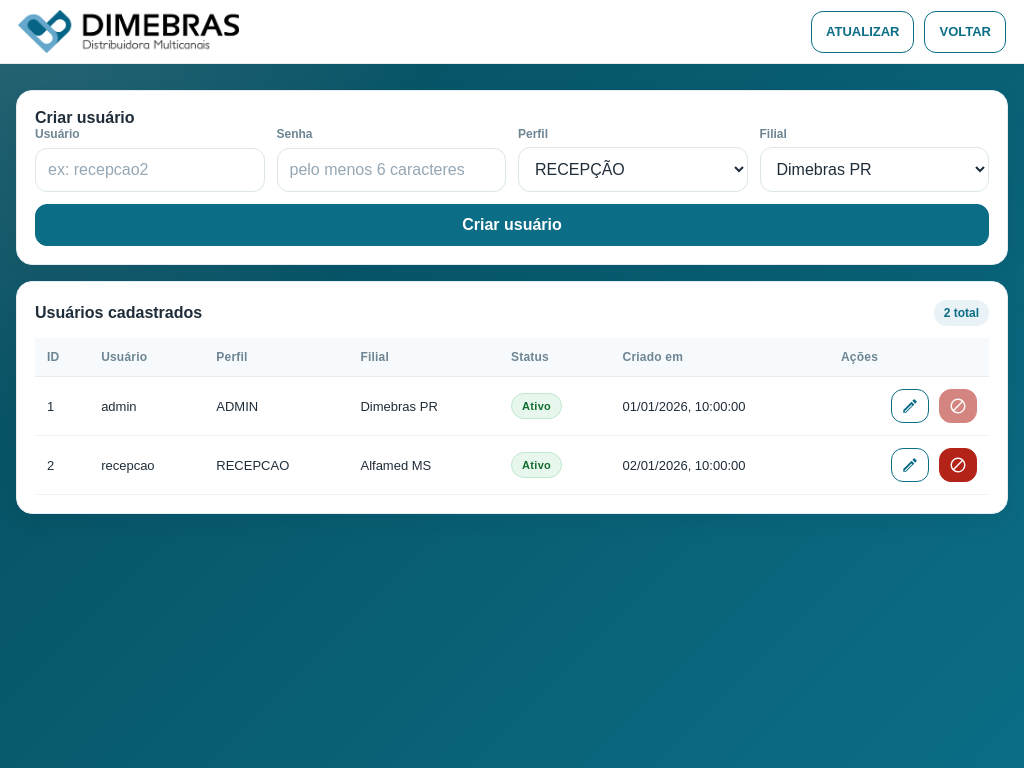
Test: AdminUsers › validates short create values and keeps field order
The width and height of the screenshot is (1024, 768).
expect the text "recepcao" is shown: met, box [89,436,204,494]
In the field labelled "Usuário": (150, 170) [35,148,264,192], type "ab"
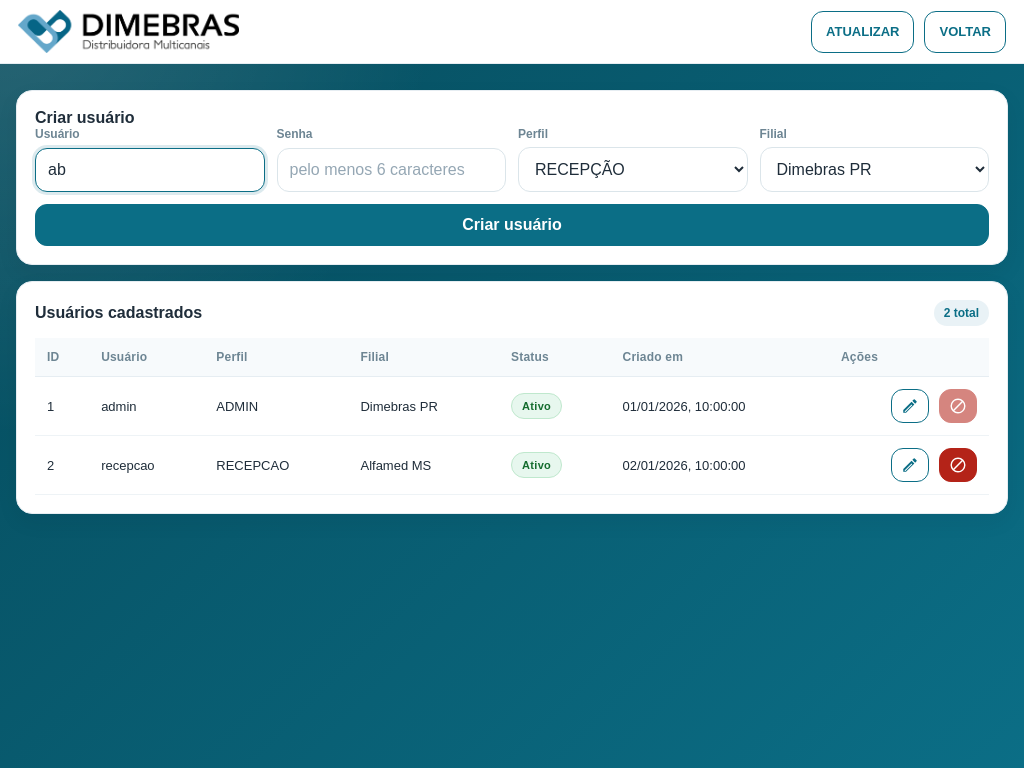
In the password field labelled "Senha": (391, 170) [276,148,506,192], type "12345"
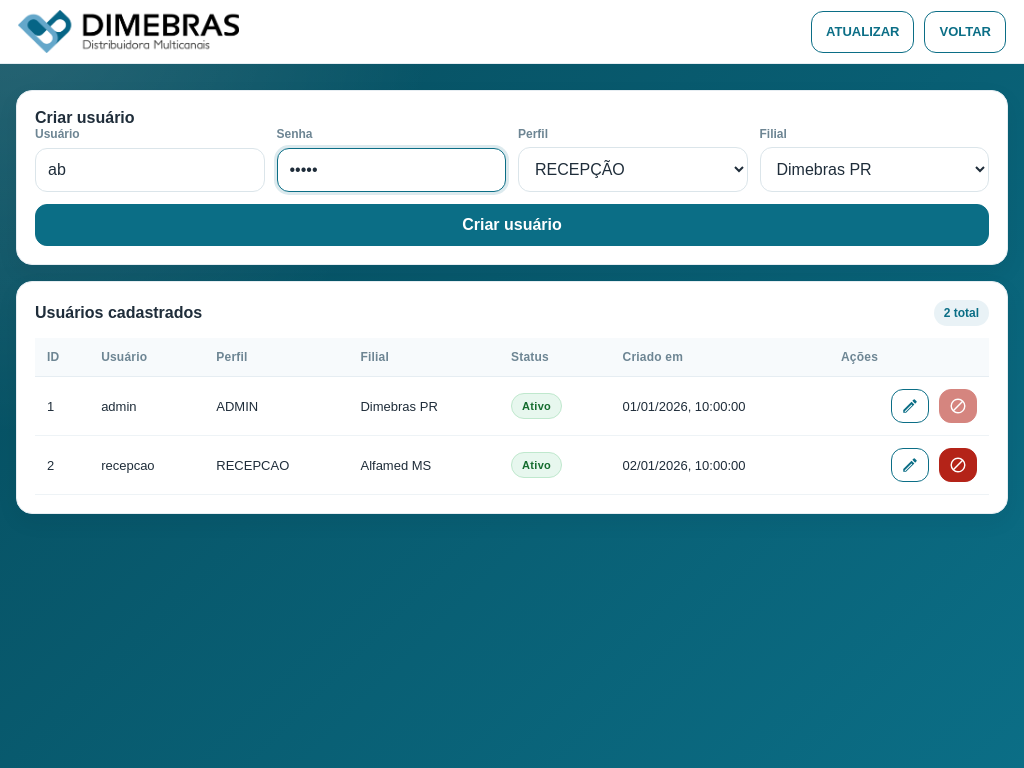
Click the button "Criar usuário": (512, 225) [35,204,989,246]
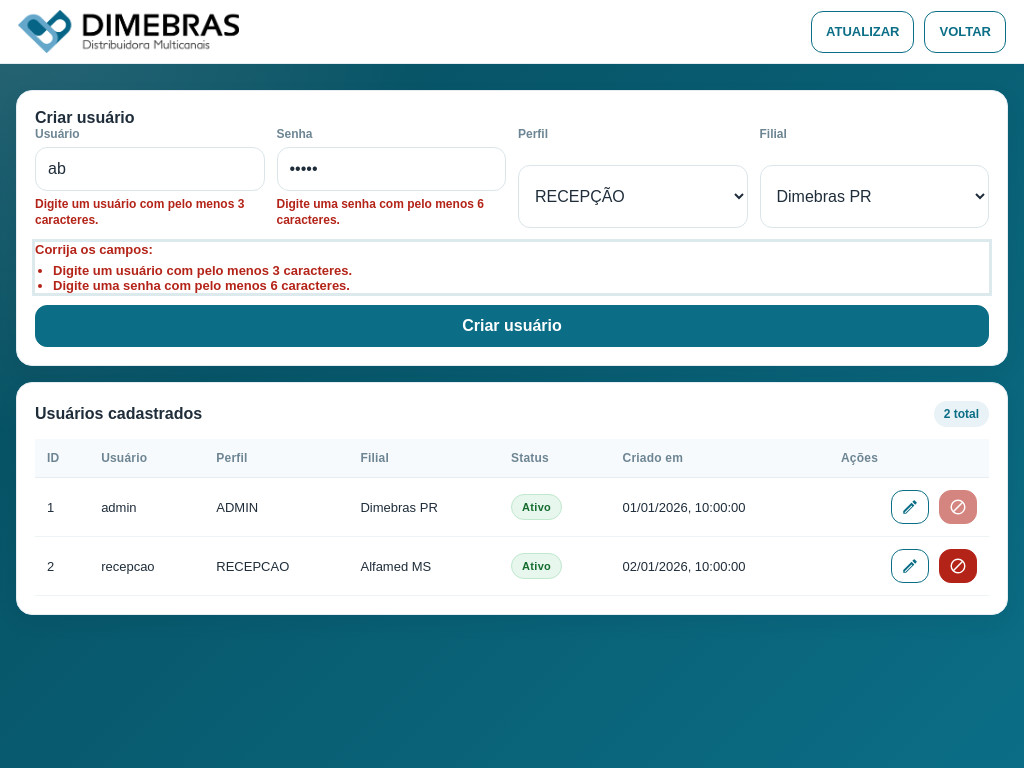
expect the list items read "Digite um usuário com pelo menos 3 caracteres.", "Digite uma senha com pelo menos 6 caracteres.", in this order: met, box [53,263,352,278]; [53,278,350,293]
